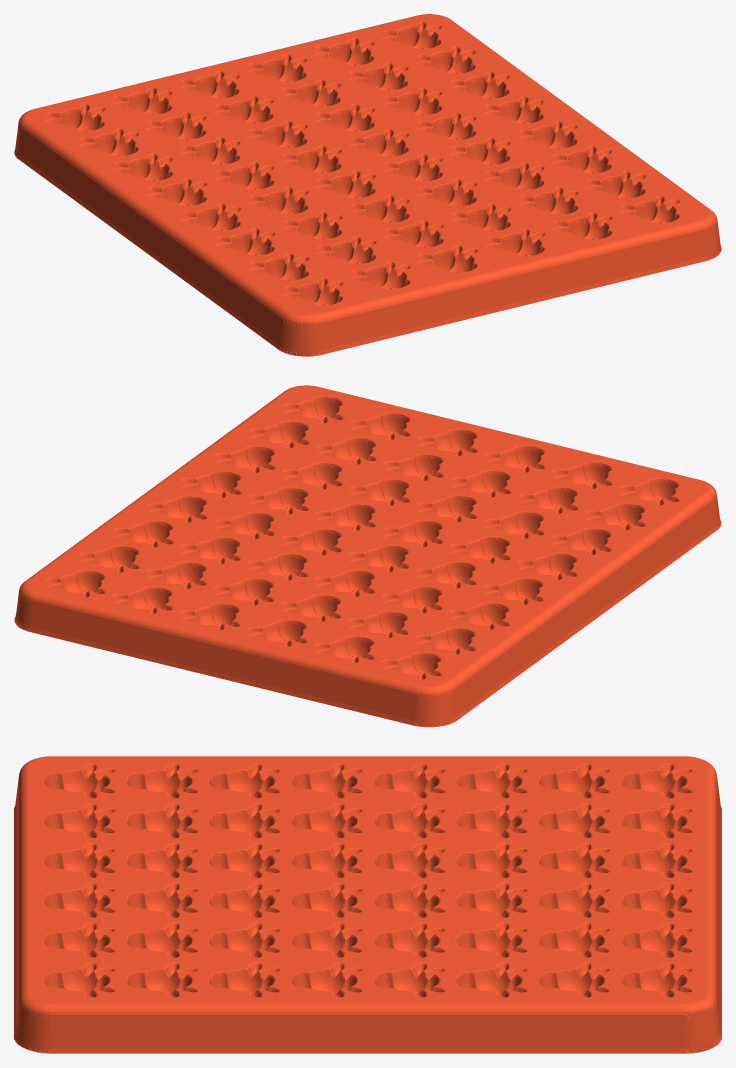
The model's file is mold.glb.
3 renders of one model, top to bottom at view 1: azimuth 30°, elevation 25°; view 2: azimuth 150°, elevation 25°; view 3: azimuth 270°, elevation 25°, orthographic. The views are drawn at different scales.
Parts seen in each view (by area): view 1: geometry_0; view 2: geometry_0; view 3: geometry_0.
Boxes of the visible parts, <box> form: geometry_0: <box>14,14,721,356</box>; geometry_0: <box>14,385,721,727</box>; geometry_0: <box>14,756,721,1053</box>.
Size of the model in its own units: 0.1443 by 0.0113 by 0.1665.
